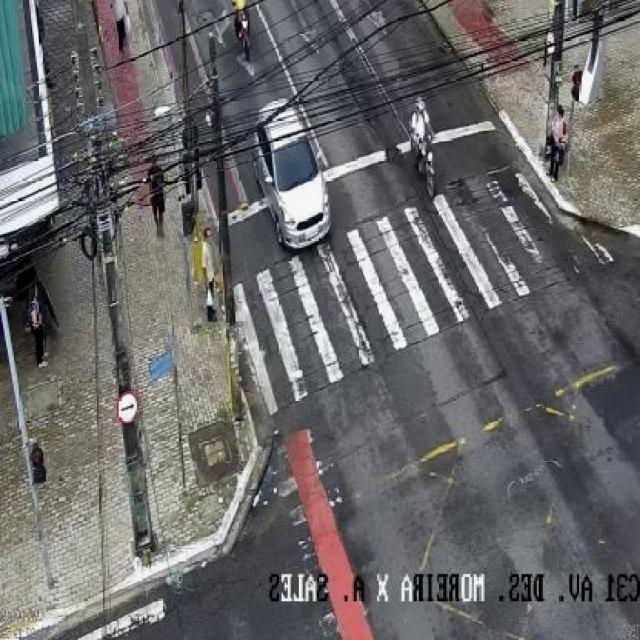Car: (249, 100, 335, 250)
Cycle: (405, 88, 438, 188), (227, 0, 255, 57)
